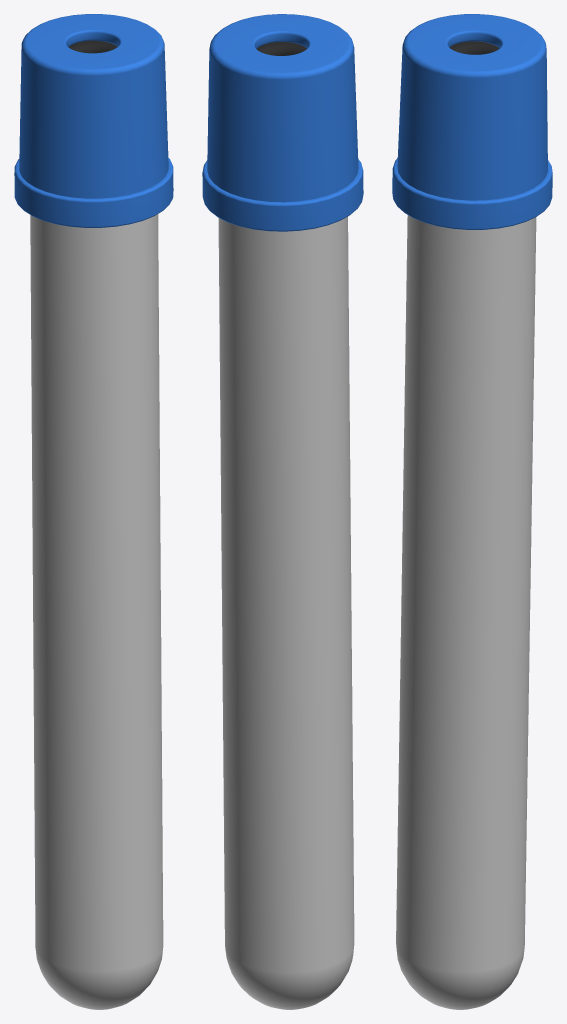
The model's file is vial cap (1).fbx.
3 renders of one model, left to right at view 1: azimuth 30°, elevation 25°; view 2: azimuth 150°, elevation 25°; view 3: azimuth 270°, elevation 25°, orthographic.
Visible parts, largest first — view 1: vial, cap; view 2: vial, cap; view 3: vial, cap.
Part boxes in pixels (x1=…): vial: x1=30, y1=214, x2=163, y2=1009; cap: x1=14, y1=14, x2=173, y2=227; vial: x1=218, y1=216, x2=354, y2=1009; cap: x1=202, y1=14, x2=363, y2=231; vial: x1=396, y1=215, x2=536, y2=1009; cap: x1=392, y1=14, x2=552, y2=229.
Size of the model in its own units: 1.61 by 10.7 by 1.62.
